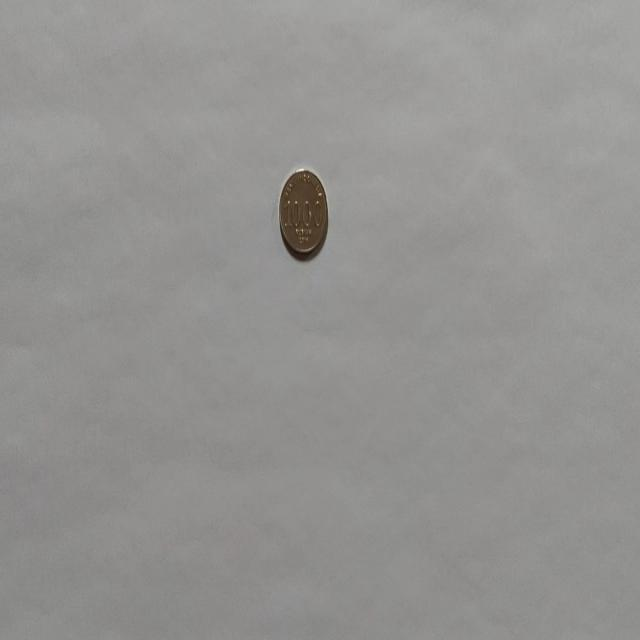seribu rupiah koin: (278, 166, 328, 259)
